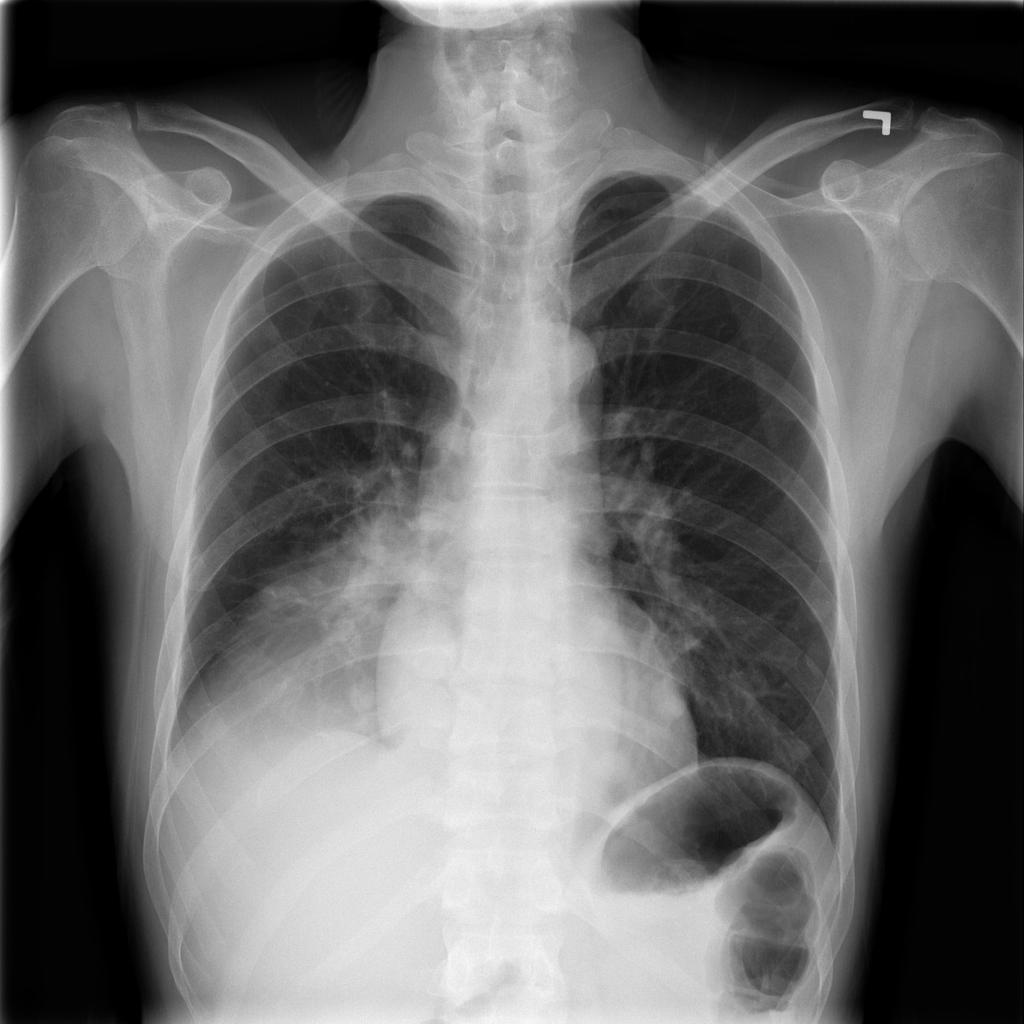nodule: (390, 604, 467, 687), (631, 664, 704, 734), (333, 666, 386, 719), (790, 630, 836, 688), (773, 723, 823, 774)
